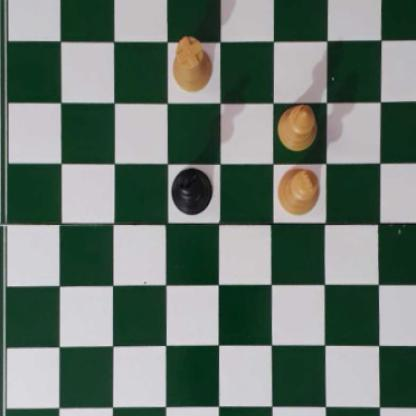black-king: (169, 167, 212, 215)
white-bishop: (278, 102, 315, 151)
white-king: (277, 165, 320, 216)
white-rook: (172, 37, 214, 92)
